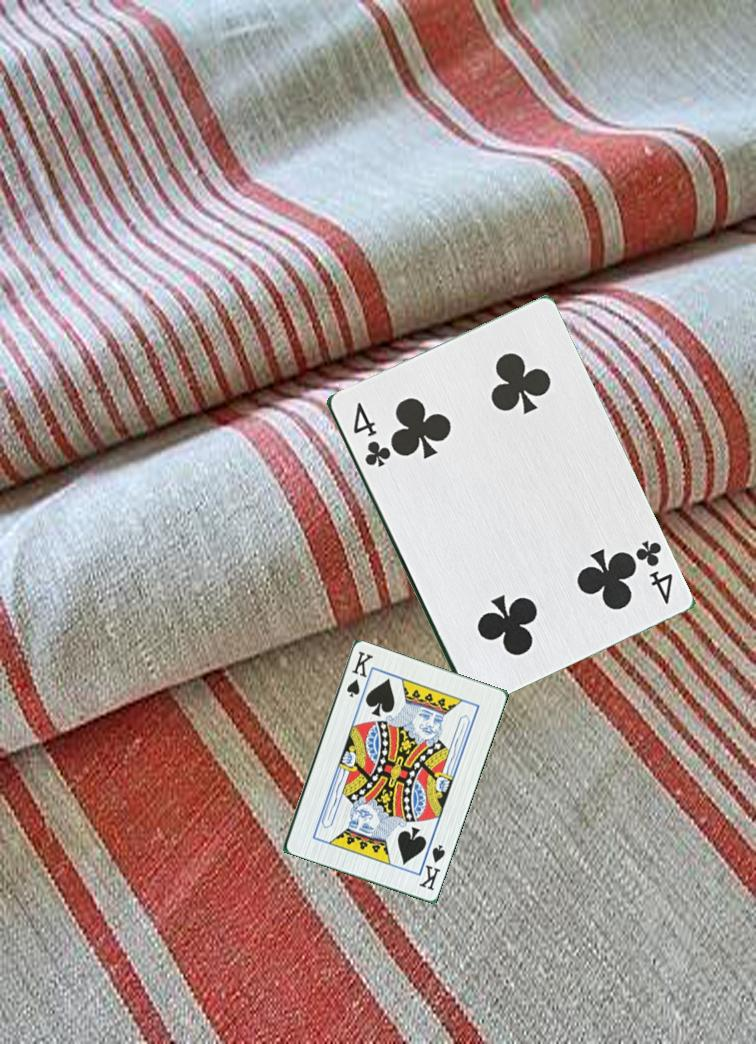4c: (348, 398, 391, 474), (631, 536, 676, 607)
ks: (413, 841, 448, 895), (342, 647, 375, 700)
